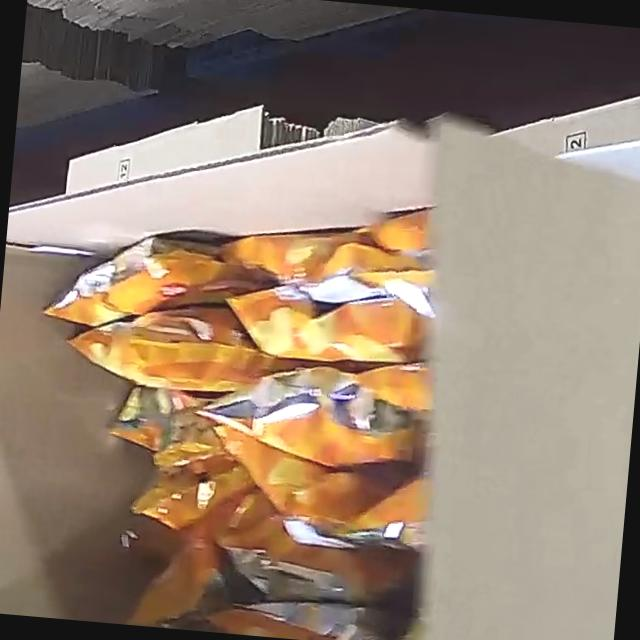cheese: (14, 175, 458, 640)
